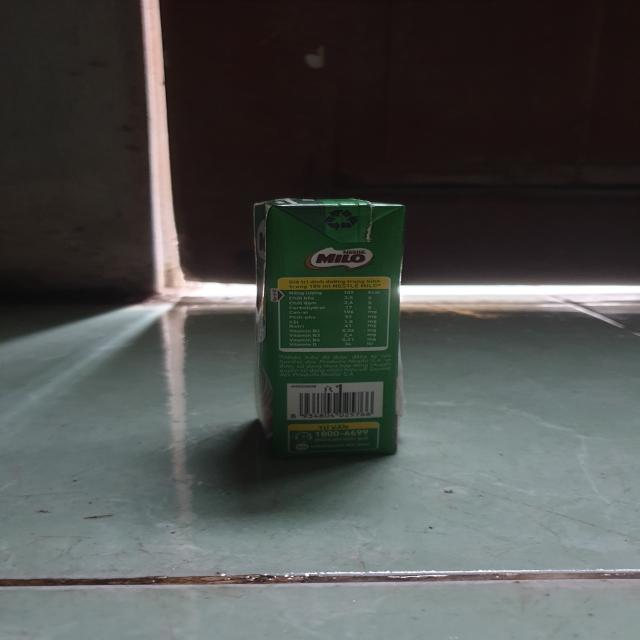Milo: (248, 193, 416, 465)
